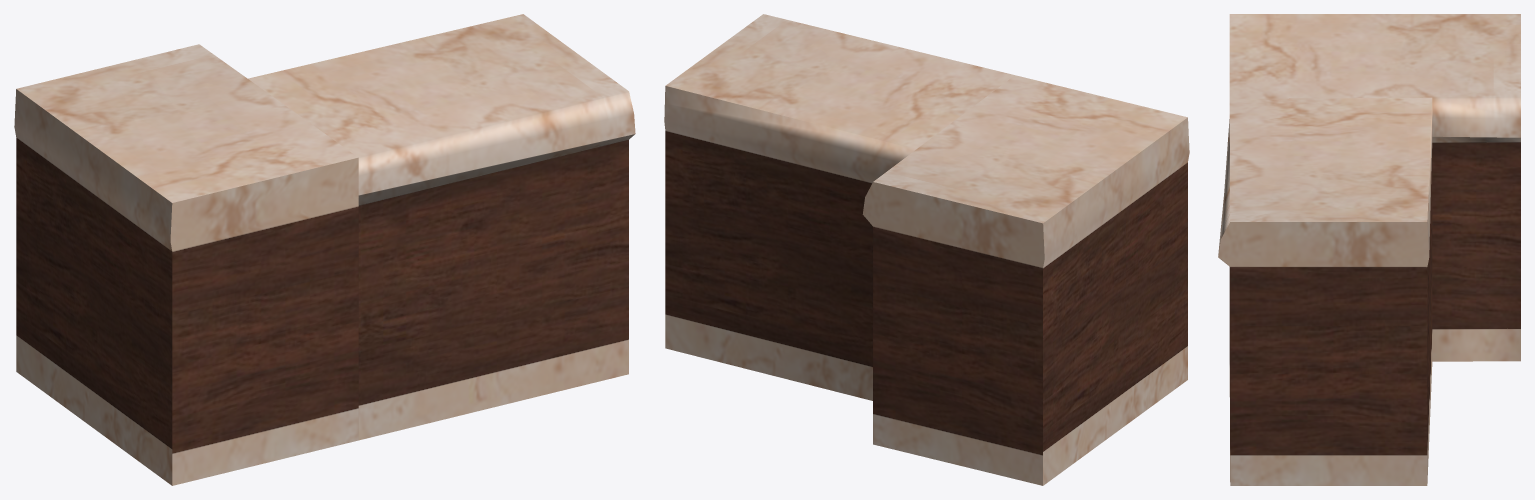
Rendered from m_kitchen_surface_corner.fbx.
3 renders of one model, left to right at view 1: azimuth 30°, elevation 25°; view 2: azimuth 150°, elevation 25°; view 3: azimuth 270°, elevation 25°, orthographic. The views are drawn at different scales.
Parts seen in each view (by area): view 1: m_kitchen_bench_corner; view 2: m_kitchen_bench_corner; view 3: m_kitchen_bench_corner.
Boxes of the visible parts, bbox=[...] form: m_kitchen_bench_corner: bbox=[14, 14, 635, 485]; m_kitchen_bench_corner: bbox=[664, 14, 1189, 485]; m_kitchen_bench_corner: bbox=[1218, 14, 1520, 485].
Bounding box in the file's own units: 170 × 100 × 104.
